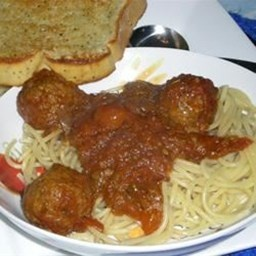background: (0, 0, 102, 98)
